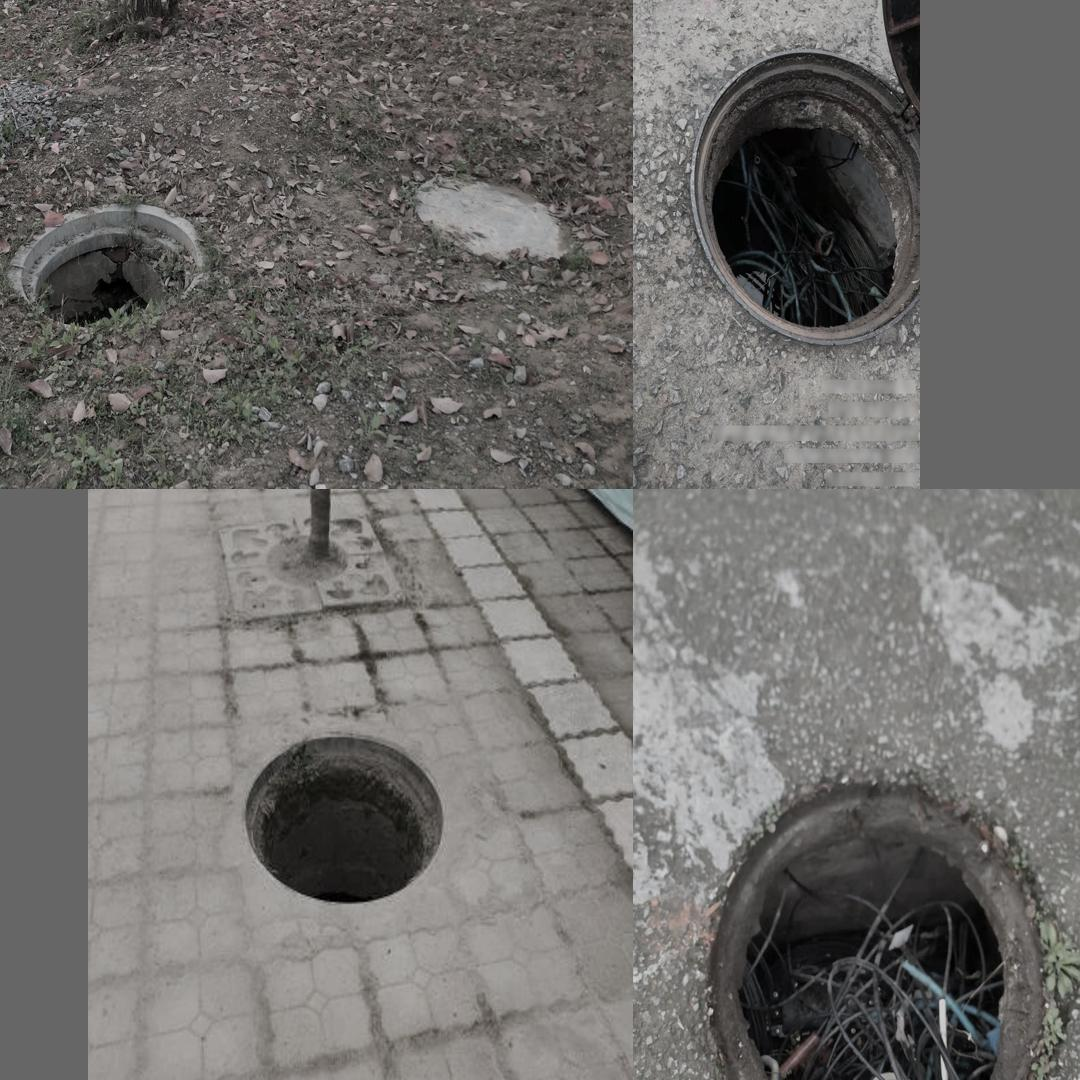lose: (694, 774, 1056, 1080), (690, 49, 917, 348), (233, 727, 447, 909), (9, 200, 206, 331)
